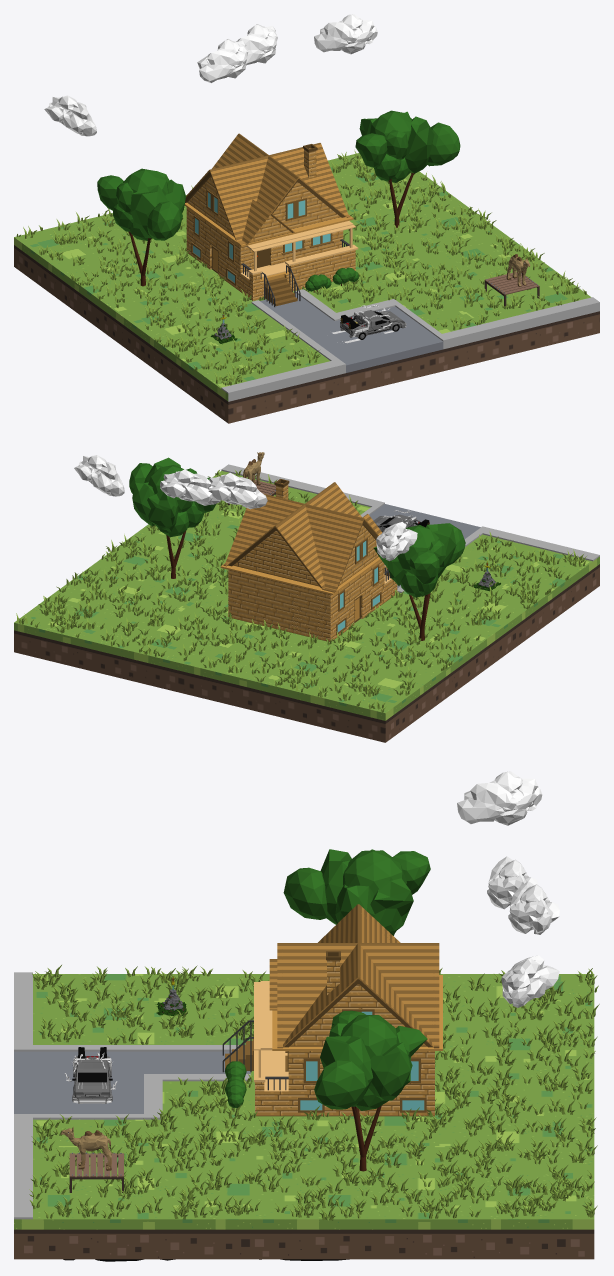
3 renders of one model, top to bottom at view 1: azimuth 30°, elevation 25°; view 2: azimuth 150°, elevation 25°; view 3: azimuth 270°, elevation 25°, orthographic. The views are drawn at different scales.
Visible parts, largest first — view 1: Cube.006, Cube.508, Circle.012_Grass_0.192, Cube.007, tree, tree.001, VEHICLES_DELOREAN, Cube.009; view 2: Cube.006, Cube.508, Circle.012_Grass_0.192, Cube.007, tree.001, tree, VEHICLES_DELOREAN; view 3: Cube.006, Circle.012_Grass_0.192, Cube.508, tree, Cube.007, tree.001, VEHICLES_DELOREAN, Cube.009, ANIMAL_CAMELLO.
Part boxes in pixels (x1,y1,x2,y2): Cube.006: (14, 153, 599, 423); Cube.508: (184, 133, 358, 307); Circle.012_Grass_0.192: (16, 150, 586, 385); Cube.007: (44, 14, 377, 136); tree: (355, 110, 460, 227); tree.001: (97, 168, 185, 286); VEHICLES_DELOREAN: (330, 304, 406, 343); Cube.009: (484, 272, 539, 306); Cube.006: (14, 464, 599, 742); Cube.508: (220, 479, 397, 641); Circle.012_Grass_0.192: (16, 470, 586, 712); Cube.007: (74, 455, 417, 561); tree.001: (374, 523, 465, 640); tree: (129, 457, 216, 578); VEHICLES_DELOREAN: (373, 510, 429, 532); Cube.006: (14, 972, 594, 1259); Circle.012_Grass_0.192: (29, 965, 599, 1220); Cube.508: (222, 904, 442, 1116); tree: (314, 1010, 427, 1171); Cube.007: (457, 771, 559, 1007); tree.001: (283, 849, 430, 935); VEHICLES_DELOREAN: (64, 1047, 117, 1103); Cube.009: (69, 1152, 123, 1192); ANIMAL_CAMELLO: (61, 1127, 111, 1170).
Size of the model in its own units: 4071 by 2149 by 4040.
Materials: 42 (4 with a texture image).
